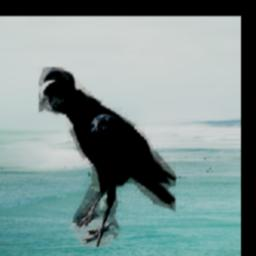Crow: (39, 68, 176, 248)
